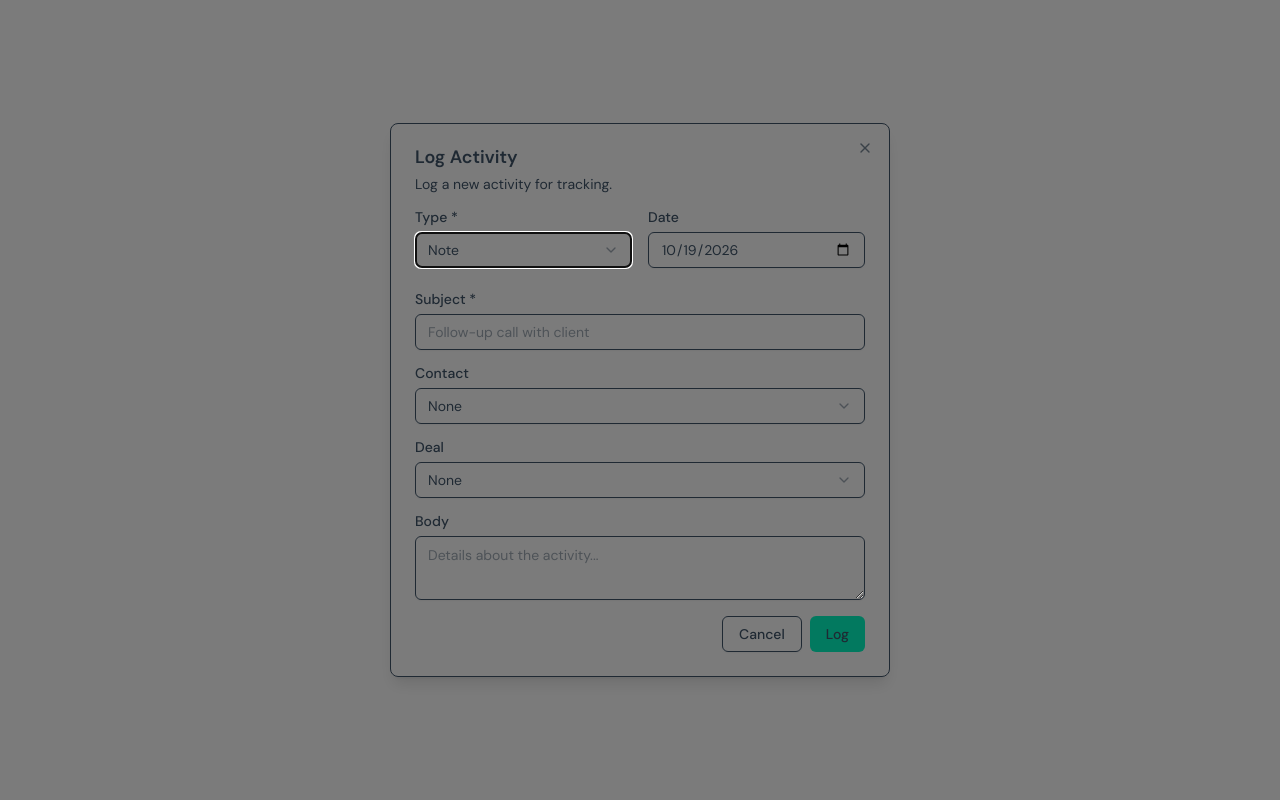
it: ActivityFormDialog › disables the submit button and shows a spinner while creating
Expected: the heading "Log Activity" is shown, [415,145,518,169]
Step 1. Type "Hold" into the field labelled "Subject *" → (640, 332), box [415,314,865,350]
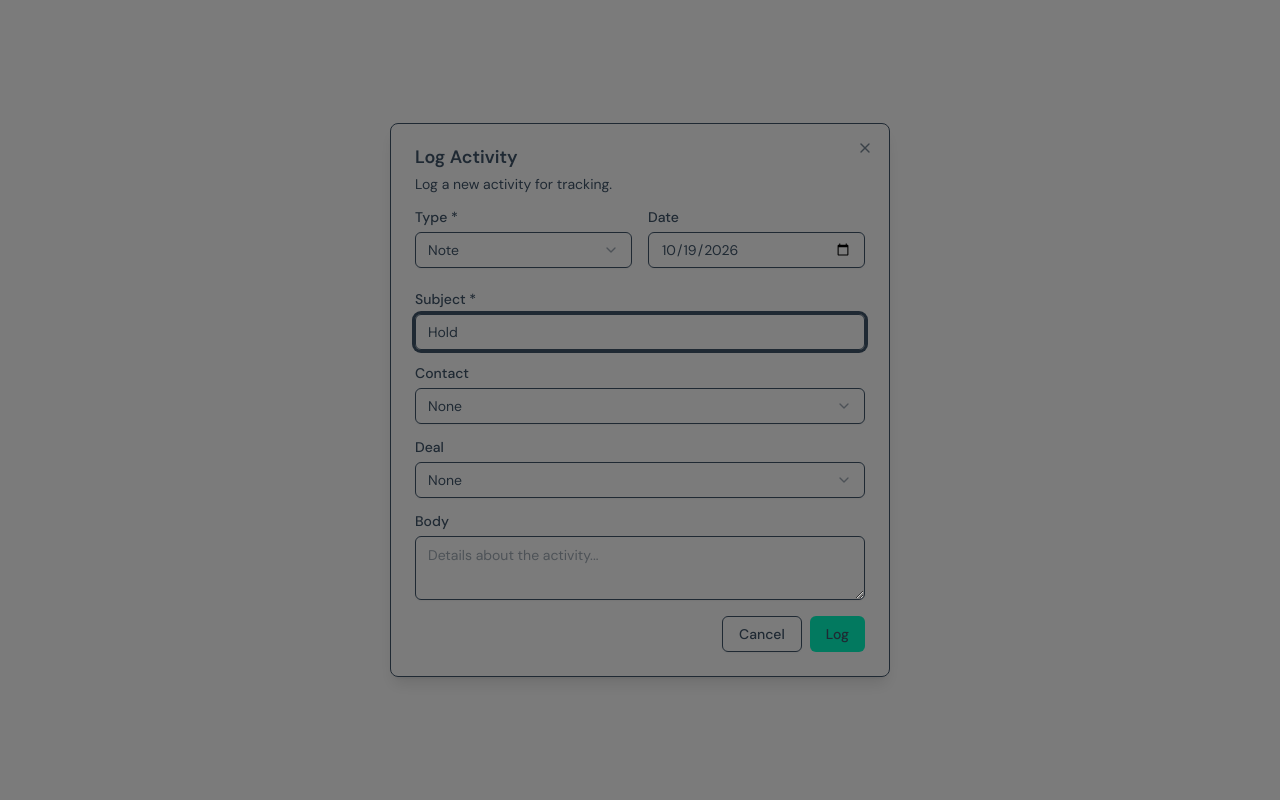
Step 2. Click the button "Log" → (837, 634), box [810,616,865,652]
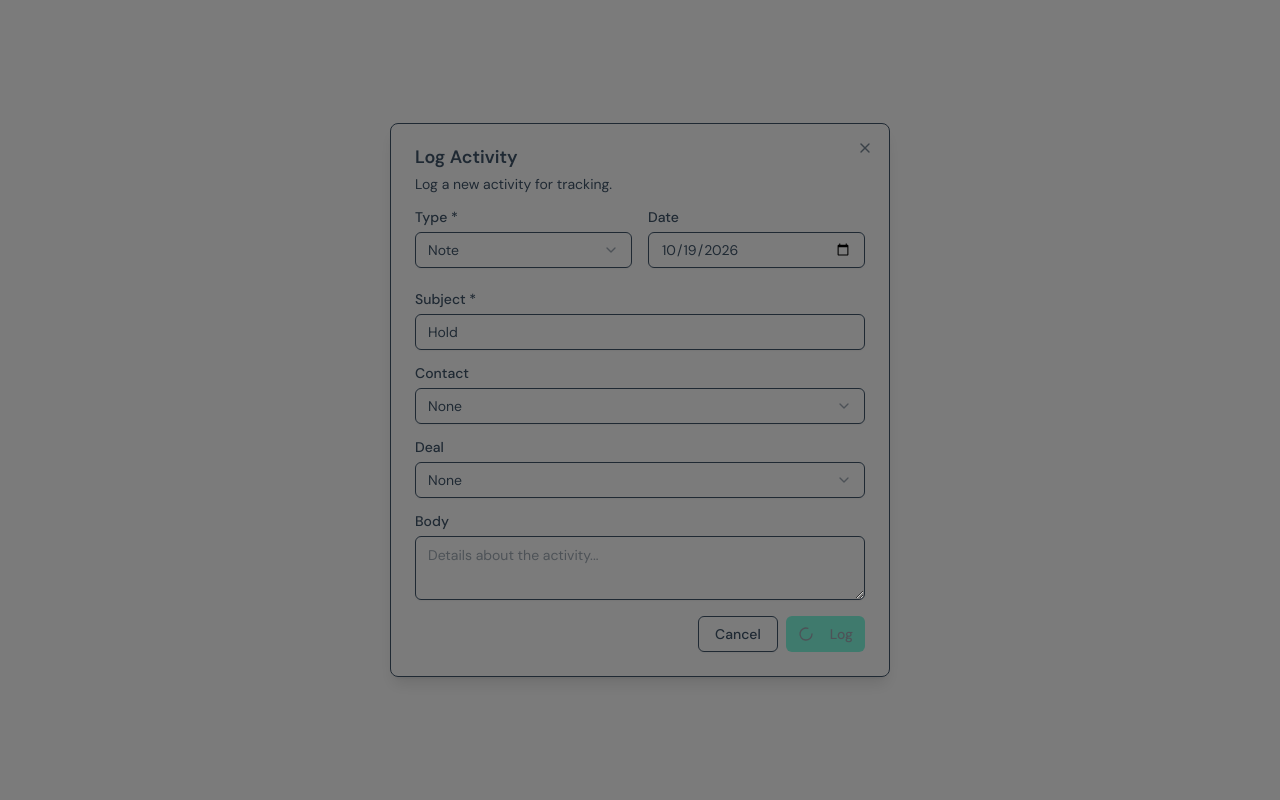
Expected: the button "Log" is disabled, [786,616,865,652]
Expected: the icon with class "animate-spin" is shown, [798,626,814,642]
